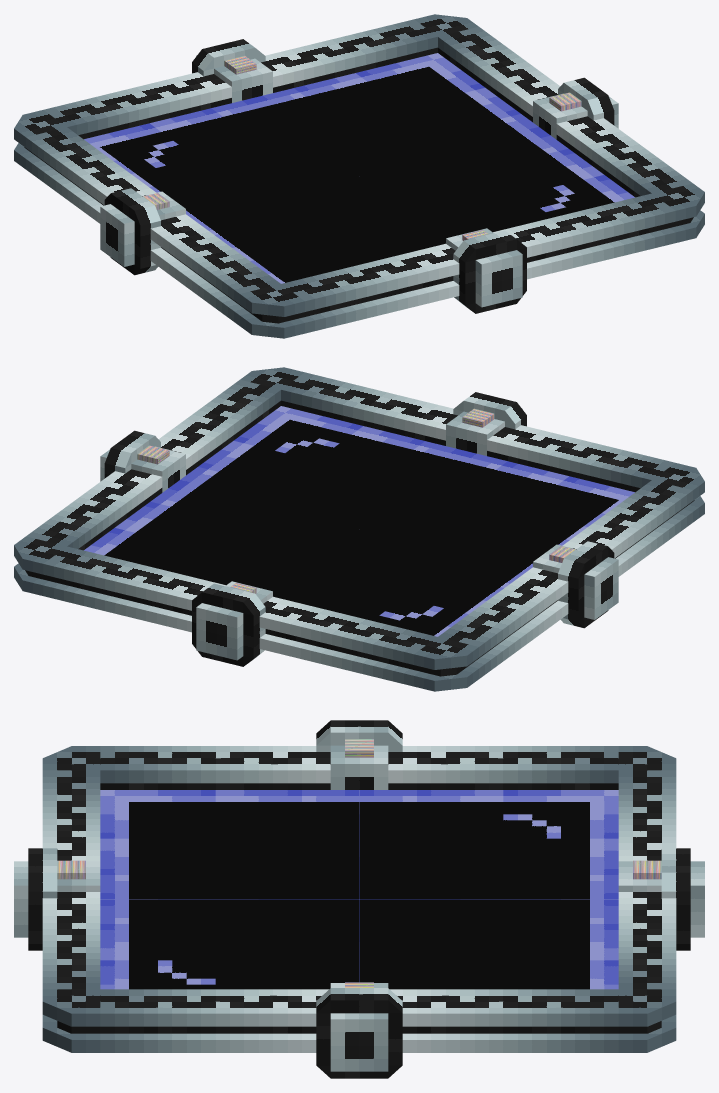
The model's file is collector_water.obj.
3 views of the same model, one above another, from view 1: azimuth 30°, elevation 25°; view 2: azimuth 150°, elevation 25°; view 3: azimuth 270°, elevation 25° (orthographic). The views are drawn at different scales.
Parts seen in each view (by area): view 1: COLLECTOR_Cube.002; view 2: COLLECTOR_Cube.002; view 3: COLLECTOR_Cube.002.
Part boxes in pixels (x1,y1,x2,y2): COLLECTOR_Cube.002: (14,14,704,338); COLLECTOR_Cube.002: (14,367,704,691); COLLECTOR_Cube.002: (14,720,704,1078).
Bounding box in the file's own units: 3 × 0.375 × 3.
